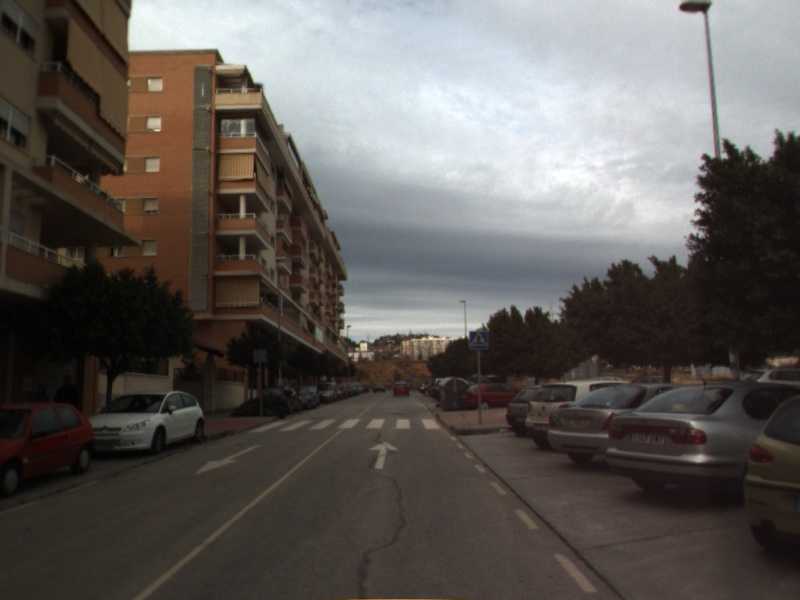STRAIGHT: (367, 439, 401, 471)
